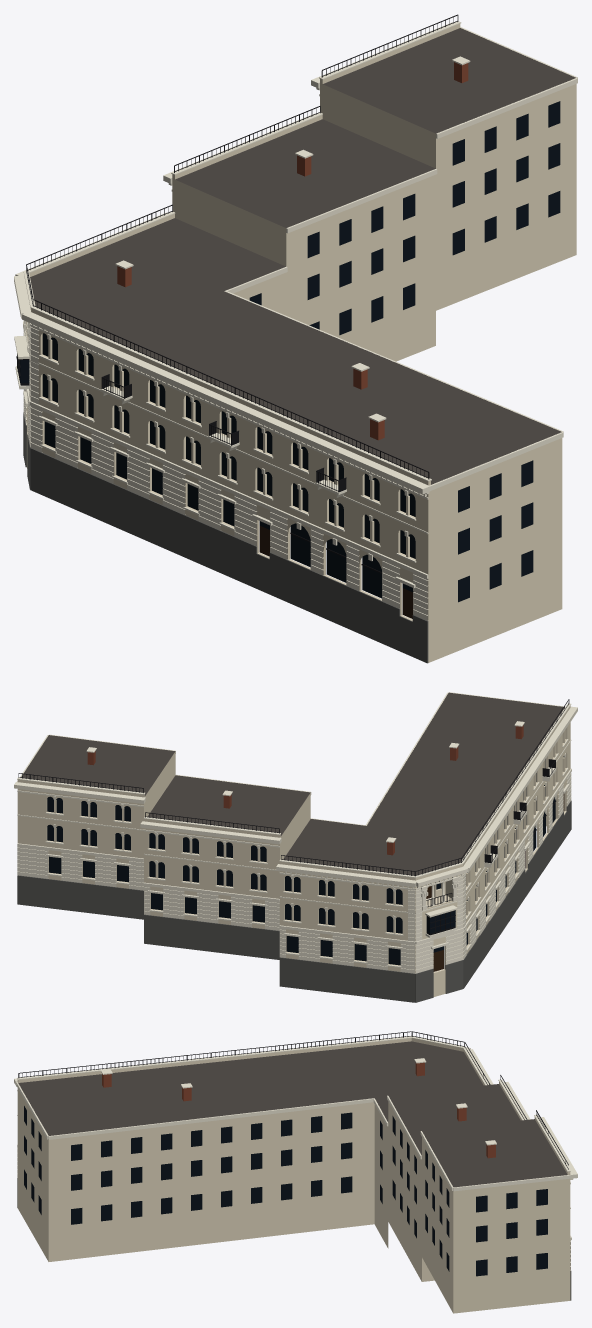
Rendered from bmorskaya15.glb.
The picture shows the model from 3 angles, top to bottom: view 1: azimuth 30°, elevation 25°; view 2: azimuth 150°, elevation 25°; view 3: azimuth 270°, elevation 25°; orthographic projection. The views are drawn at different scales.
Parts seen in each view (by area): view 1: bmorskaya15_wall, bmorskaya15_roof, bmorskaya15_trim, bmorskaya15_glass, bmorskaya15_stone, bmorskaya15_metal, bmorskaya15_wall3; view 2: bmorskaya15_roof, bmorskaya15_wall, bmorskaya15_trim, bmorskaya15_stone, bmorskaya15_glass, bmorskaya15_metal, bmorskaya15_wall3; view 3: bmorskaya15_wall, bmorskaya15_roof, bmorskaya15_glass, bmorskaya15_trim, bmorskaya15_metal, bmorskaya15_wall3.
Boxes of the visible parts, left/top/right/bottom form: bmorskaya15_wall: left=24, top=24, right=576, bottom=662; bmorskaya15_roof: left=30, top=28, right=575, bottom=484; bmorskaya15_trim: left=14, top=21, right=577, bottom=620; bmorskaya15_glass: left=20, top=101, right=560, bottom=602; bmorskaya15_stone: left=23, top=412, right=428, bottom=663; bmorskaya15_metal: left=16, top=14, right=458, bottom=573; bmorskaya15_wall3: left=117, top=62, right=468, bottom=440; bmorskaya15_roof: left=21, top=692, right=564, bottom=875; bmorskaya15_wall: left=17, top=706, right=570, bottom=996; bmorskaya15_trim: left=14, top=692, right=577, bottom=973; bmorskaya15_stone: left=17, top=800, right=571, bottom=1002; bmorskaya15_glass: left=47, top=756, right=564, bottom=965; bmorskaya15_metal: left=18, top=699, right=569, bottom=935; bmorskaya15_wall3: left=87, top=725, right=523, bottom=855; bmorskaya15_wall: left=17, top=1038, right=570, bottom=1313; bmorskaya15_roof: left=18, top=1041, right=567, bottom=1187; bmorskaya15_glass: left=24, top=1106, right=547, bottom=1276; bmorskaya15_trim: left=14, top=1036, right=577, bottom=1270; bmorskaya15_metal: left=18, top=1031, right=568, bottom=1169; bmorskaya15_wall3: left=102, top=1062, right=495, bottom=1158.
Size of the model in its own units: 52.57 by 23.22 by 61.61.
